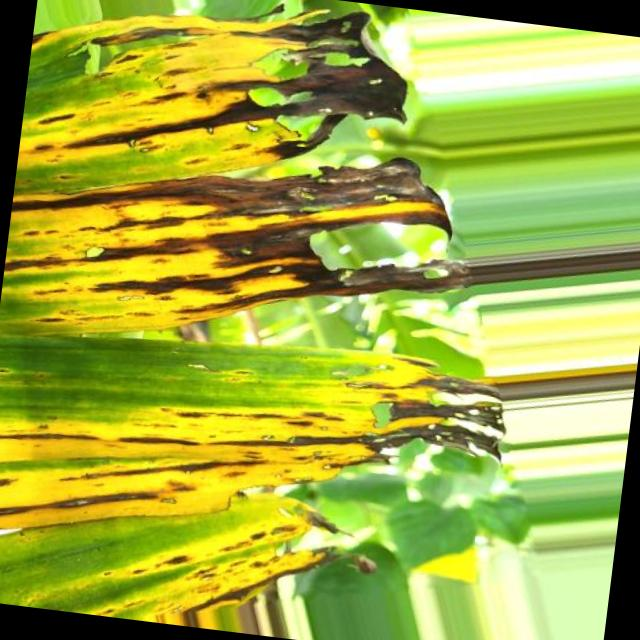Banana_Black_Sigatoka: (5, 0, 498, 328), (130, 325, 523, 640)
